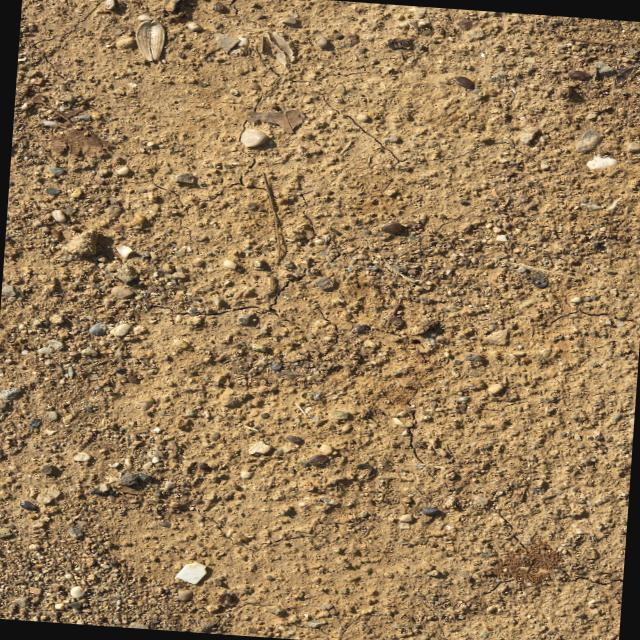suelo_seco: (117, 80, 568, 572)
